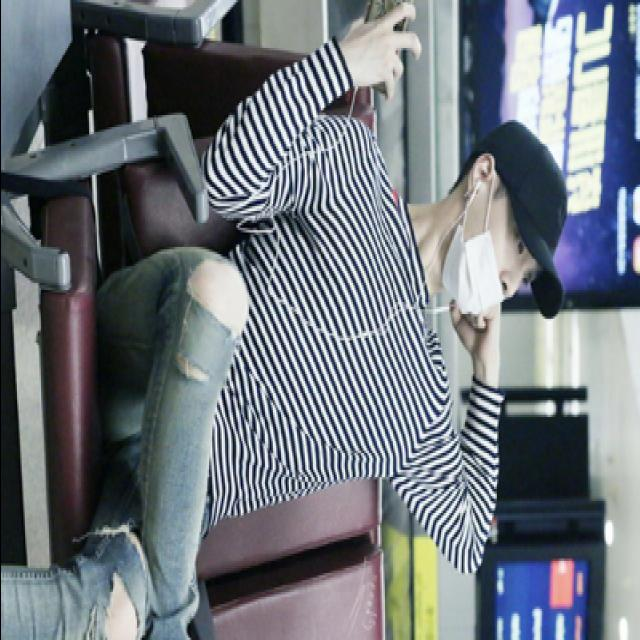no_mask: (448, 195, 534, 316)
